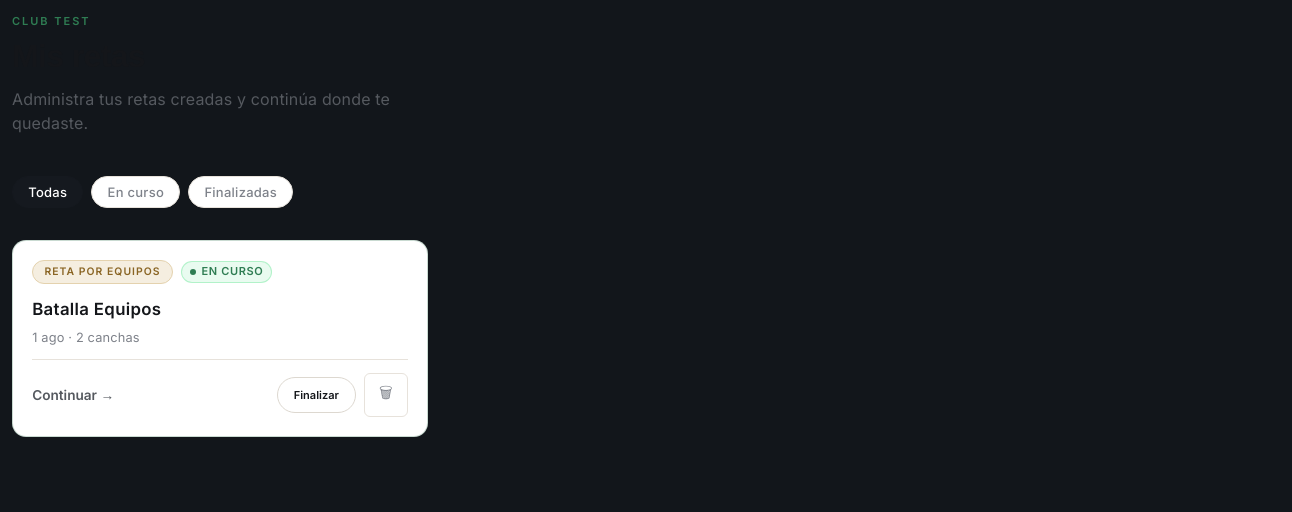
Test: Finalizar reta — resiliencia de UI › tras un fallo recarga la lista para reflejar el estado real del backend
Click the button "Finalizar" at (316, 395), box [277,377,356,413]
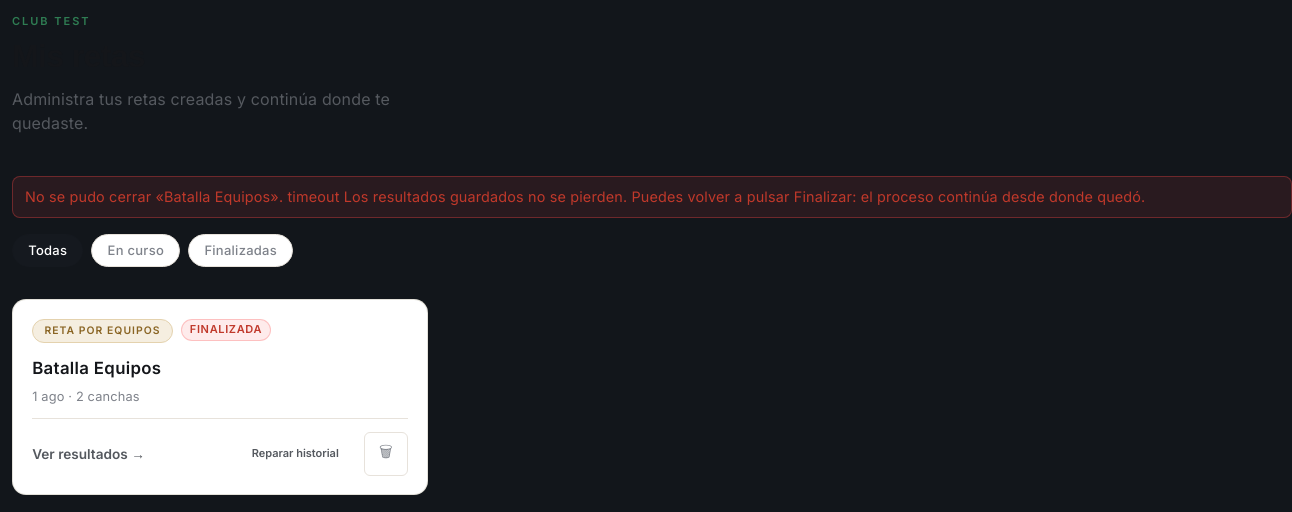
Check: the button "Finalizar" is gone
Check: the button "Reparar historial" is shown, box [235,436,356,472]
